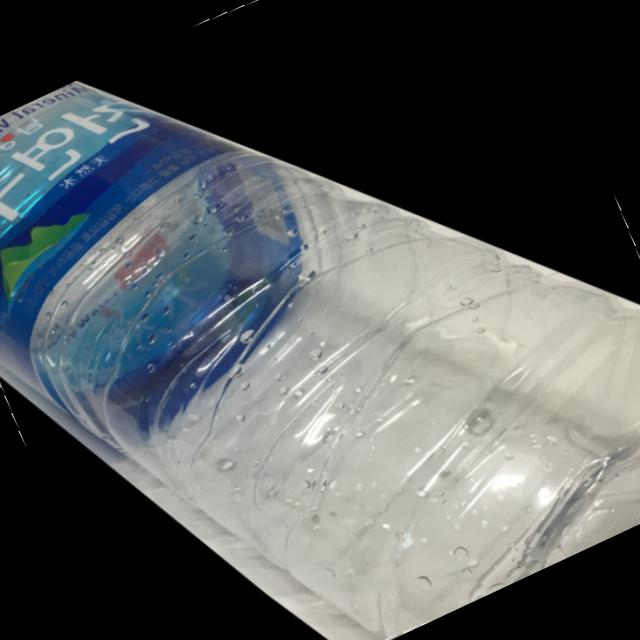plastic: (0, 81, 640, 640)
